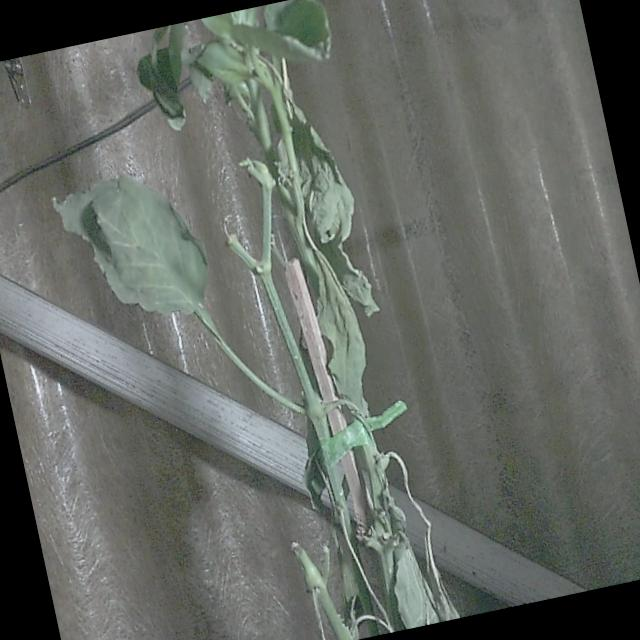Leaf: (48, 159, 218, 336)
